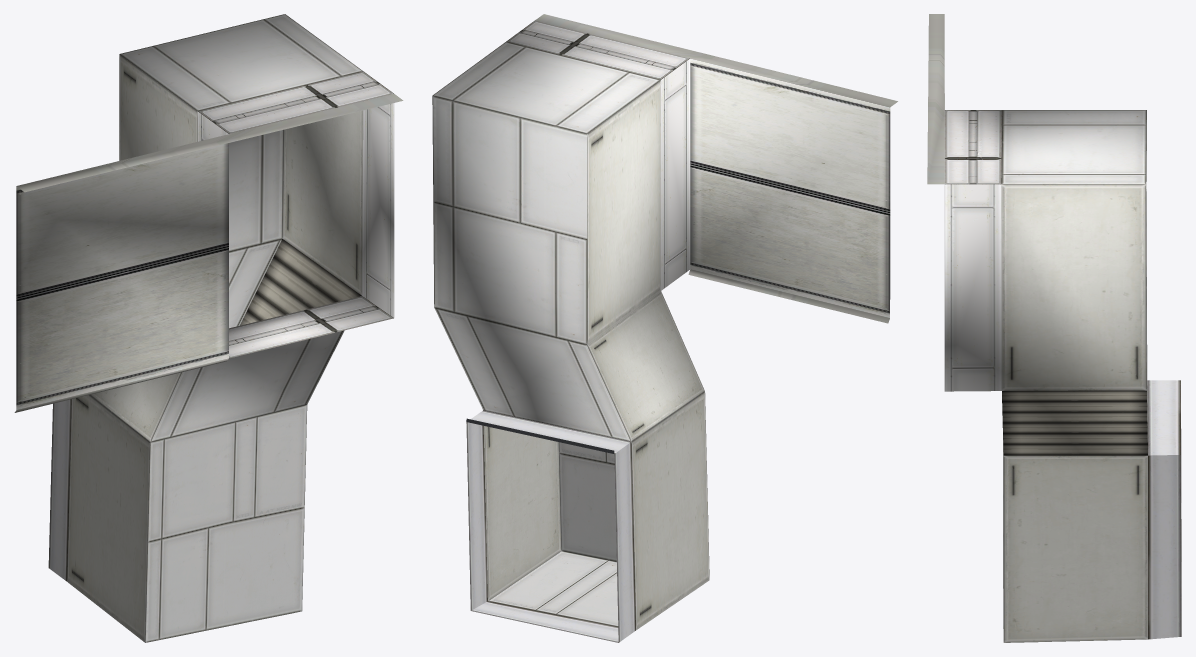
Rendered from STA20_barentry.FBX.
The picture shows the model from 3 angles, left to right: view 1: azimuth 30°, elevation 25°; view 2: azimuth 150°, elevation 25°; view 3: azimuth 270°, elevation 25°; orthographic projection. The views are drawn at different scales.
Visible parts, largest first — view 1: STA20_barentry; view 2: STA20_barentry; view 3: STA20_barentry.
Part boxes in pixels (left/top/right/bottom): STA20_barentry: left=14, top=14, right=403, bottom=642; STA20_barentry: left=432, top=14, right=897, bottom=642; STA20_barentry: left=927, top=14, right=1181, bottom=642.
Size of the model in its own units: 7.14 by 9.49 by 4.5.
